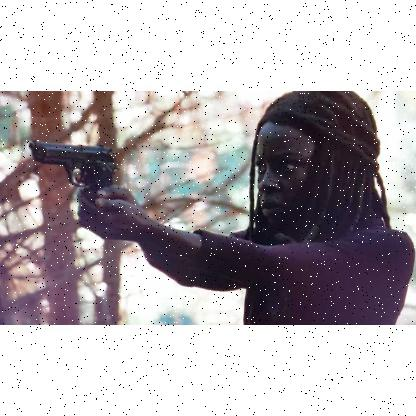gun: (25, 136, 116, 228)
